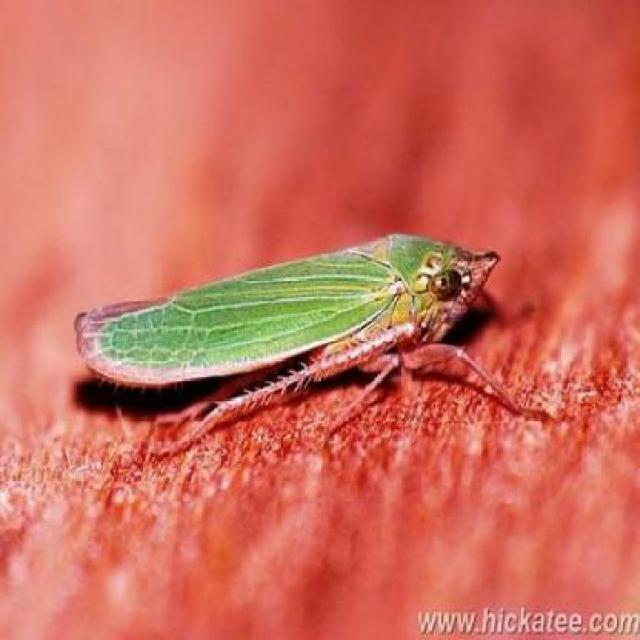green-leafhopper: (66, 229, 522, 397)
